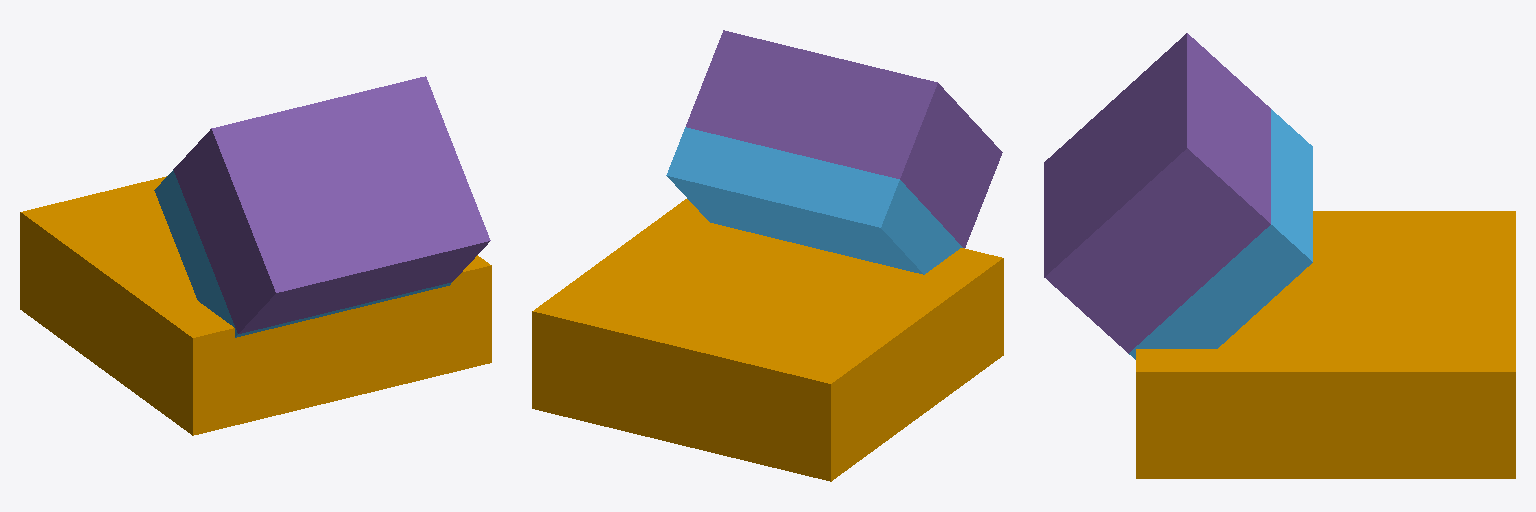
robot.urdf — abondance_finger:
<?xml version='1.0' encoding='utf-8'?>
<robot name="abondance_finger">
  <link name="base_link">
    <visual>
      <origin rpy="0.0 0 0" xyz="0 0 0" />
      <geometry>
        <box size="0.64 0.64 0.2" />
      </geometry>
    </visual>
  </link>
  <link name="act0Seg0">
    <visual>
      <origin rpy="0.0 0 0" xyz="0 0 0.05" />
      <geometry>.03
        <box size="0.46 0.34 0.1" />
      </geometry>
    </visual>
  </link>
  <joint name="base_link_to_act0Seg0" type="fixed">
    <parent link="base_link" />
    <child link="act0Seg0" />
    <origin rpy="0.785398 0 0" xyz="0 -0.141 0.141" />
    <axis xyz="1 0 0" />
  </joint>
  <link name="act0Seg1">
    <visual>
      <origin rpy="0 0.0 0.0" xyz="0.0 0.0 0.1" />
      <geometry>
        <box size="0.46 0.34 0.2" />
      </geometry>
      <material name="purple">
        <color rgba="0.537255 0.407843 0.690196 1.0" />
      </material>
    </visual>
  </link>
  <joint name="act0Seg0_to_act0Seg1_ax0" type="revolute">
    <parent link="act0Seg0" />
    <child link="act0Seg1" />
    <origin rpy="0.0  0.0 0.0" xyz="0.0 0.0 0.1" />
    <axis xyz="1 0 0" />
    <limit effort="100" lower="-3.141592" upper="3.141592" velocity="3" />
  </joint>
</robot>

--- Facts derived from the render (not from the file) ---
3 views of the same robot in one strip: view 1: azimuth 30°, elevation 25°; view 2: azimuth 150°, elevation 25°; view 3: azimuth 270°, elevation 25° (orthographic).
Robot: abondance_finger — 3 links, 2 joints (1 revolute, 1 fixed); root link base_link; default pose: all joints at 0.
Visible links, largest first — view 1: base_link, act0Seg1, act0Seg0; view 2: base_link, act0Seg1, act0Seg0; view 3: base_link, act0Seg1, act0Seg0.
Boxes of the visible links, <box> form: base_link: <box>20,176,491,435</box>; act0Seg1: <box>173,76,490,333</box>; act0Seg0: <box>154,170,451,337</box>; base_link: <box>532,199,1003,481</box>; act0Seg1: <box>686,30,1002,247</box>; act0Seg0: <box>666,127,962,274</box>; base_link: <box>1136,211,1515,478</box>; act0Seg1: <box>1044,33,1270,353</box>; act0Seg0: <box>1129,109,1312,359</box>.
Bounding box of the posed robot: 0.64 × 0.7933 × 0.5733 m (x, y, z).
Geometry: primitives only (box / cylinder / sphere), no mesh files.